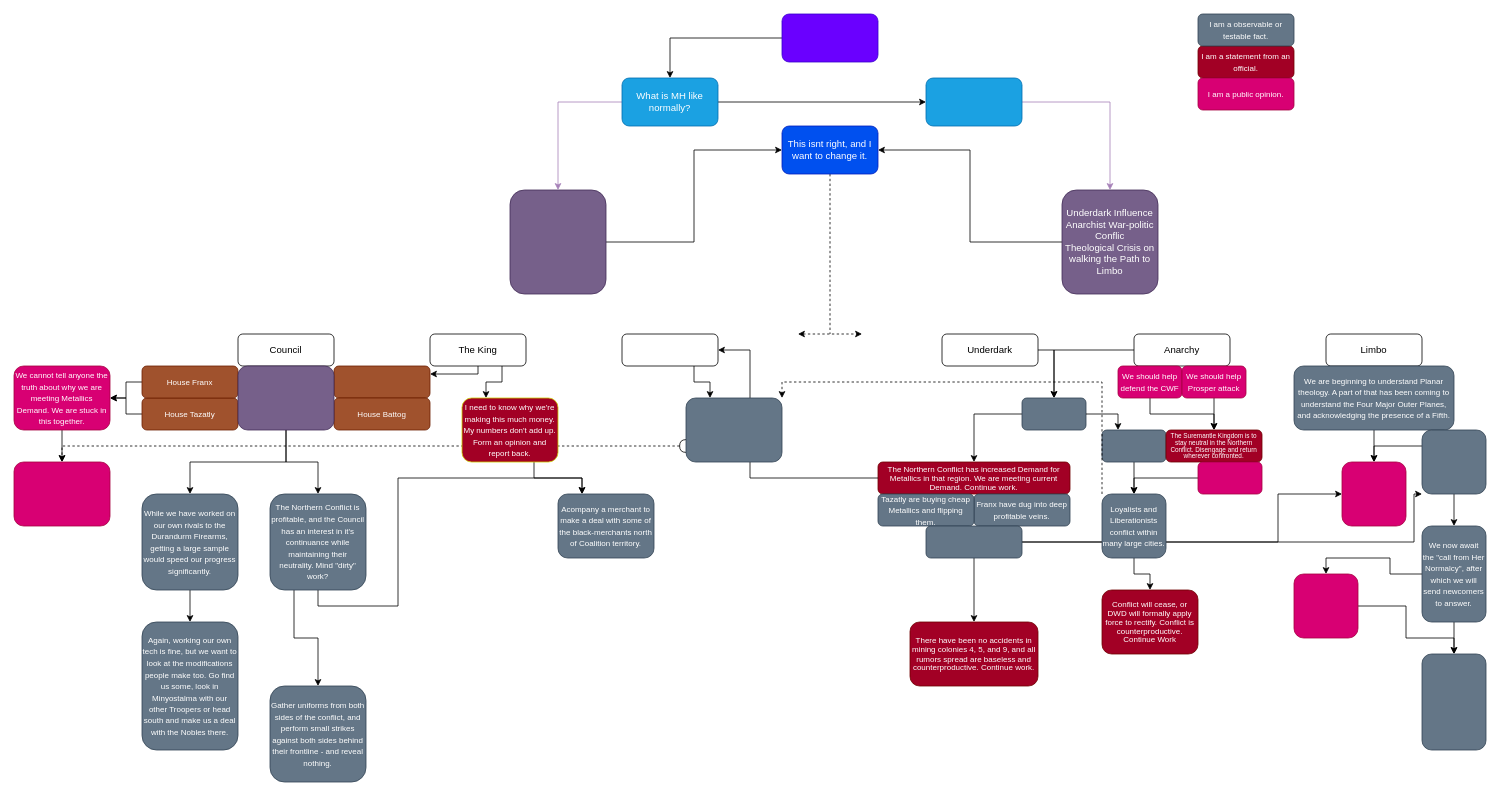
Some shapes in this 1500 by 796 pixel diagram are drawn without their labels. The shapes that lost their labels are listed below. From the top down, each one's box as (x1, y1, x2, y2) in pixels, then its label:
(781, 13, 878, 62): There is something wrong with Mountain Hall...
(925, 77, 1022, 126): What is happening that is not normal?
(509, 189, 606, 294): Council of Houses King Suremantle Metals Trade / War Profiteering
(621, 333, 718, 366): War Profiteering
(237, 365, 334, 430): The Council of Houses in the Suremantle Kingdom
(333, 365, 430, 398): House Suremantle
(685, 397, 782, 462): L&L conflicts have increased inner-city weapons trades.
(1021, 397, 1086, 430): Metallics Output is up!
(1101, 429, 1166, 462): But I'm still struggling for money!
(1421, 429, 1486, 494): The Prophecy of the Tower is coming to a head.
(13, 461, 110, 526): The L&L conflicts are the best place for us to launder merchandise.
(1197, 461, 1262, 494): Fuck that!
(1341, 461, 1406, 526): I don't understand how this will impact me and I am now scared.
(925, 525, 1022, 558): We found metals we've never seen before...
(1293, 573, 1358, 638): The Call occured! Who will answer? Not me!
(1421, 653, 1486, 750): As they enter the "far beyond" - the Wildlands - they must think of "Her".
